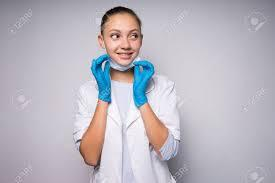Wore Mask Incorrectly: (97, 5, 156, 88)
